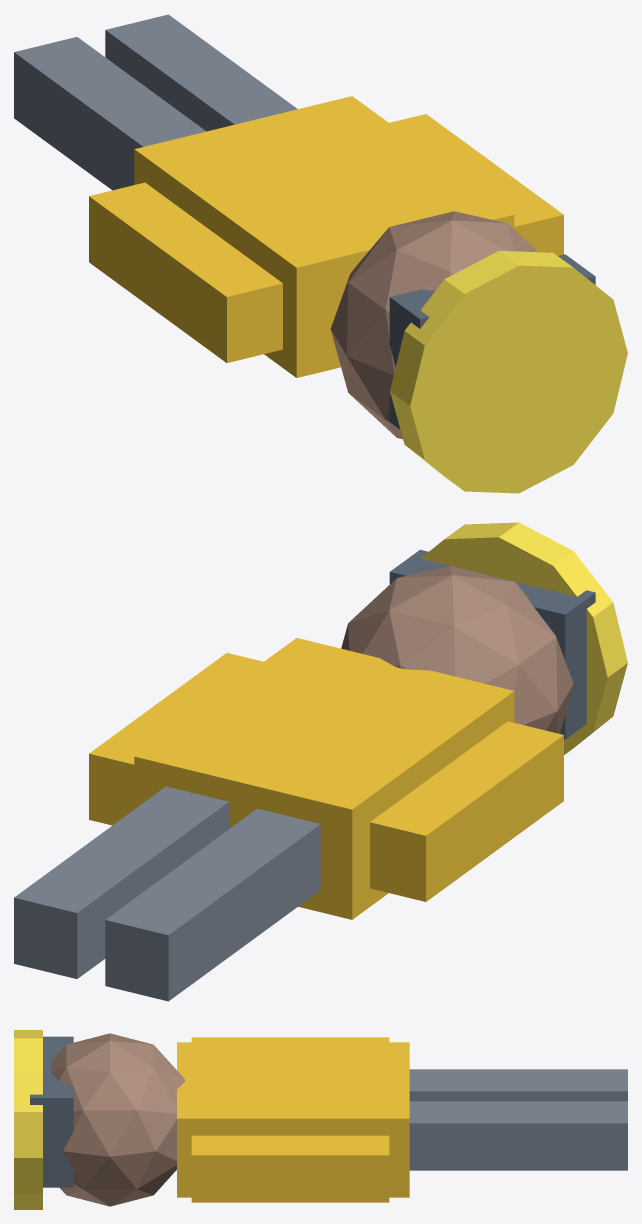
Rendered from safety_variant_4.glb.
3 views of the same model, one above another, from view 1: azimuth 30°, elevation 25°; view 2: azimuth 150°, elevation 25°; view 3: azimuth 270°, elevation 25° (orthographic). The views are drawn at different scales.
Parts seen in each view (by area): view 1: torso_2, helmet_7, arm_l_3, leg_l_0, head_5, leg_r_1, arm_r_4, hair_6; view 2: torso_2, leg_l_0, head_5, arm_l_3, leg_r_1, helmet_7, arm_r_4, hair_6; view 3: torso_2, head_5, leg_r_1, arm_r_4, leg_l_0, helmet_7, hair_6, arm_l_3.
Part boxes in pixels (x1,y1,x2,y2): torso_2: (134,96,514,377); helmet_7: (390,250,627,493); arm_l_3: (89,182,282,362); leg_l_0: (14,37,206,190); head_5: (330,211,538,439); leg_r_1: (105,14,297,131); arm_r_4: (389,114,563,255); hair_6: (389,254,595,429); torso_2: (134,638,514,919); leg_l_0: (105,808,320,1001); head_5: (341,566,573,733); arm_l_3: (370,721,563,901); leg_r_1: (14,786,229,978); helmet_7: (420,522,627,754); arm_r_4: (89,653,263,825); hair_6: (389,549,595,739); torso_2: (177,1042,409,1197); head_5: (51,1033,184,1206); leg_r_1: (409,1101,627,1170); arm_r_4: (191,1135,389,1202); leg_l_0: (409,1069,627,1101); helmet_7: (14,1030,42,1209); hair_6: (30,1036,73,1187); arm_l_3: (191,1037,389,1042).
Bounding box in the file's own units: 0.96 × 0.62 × 2.11.
